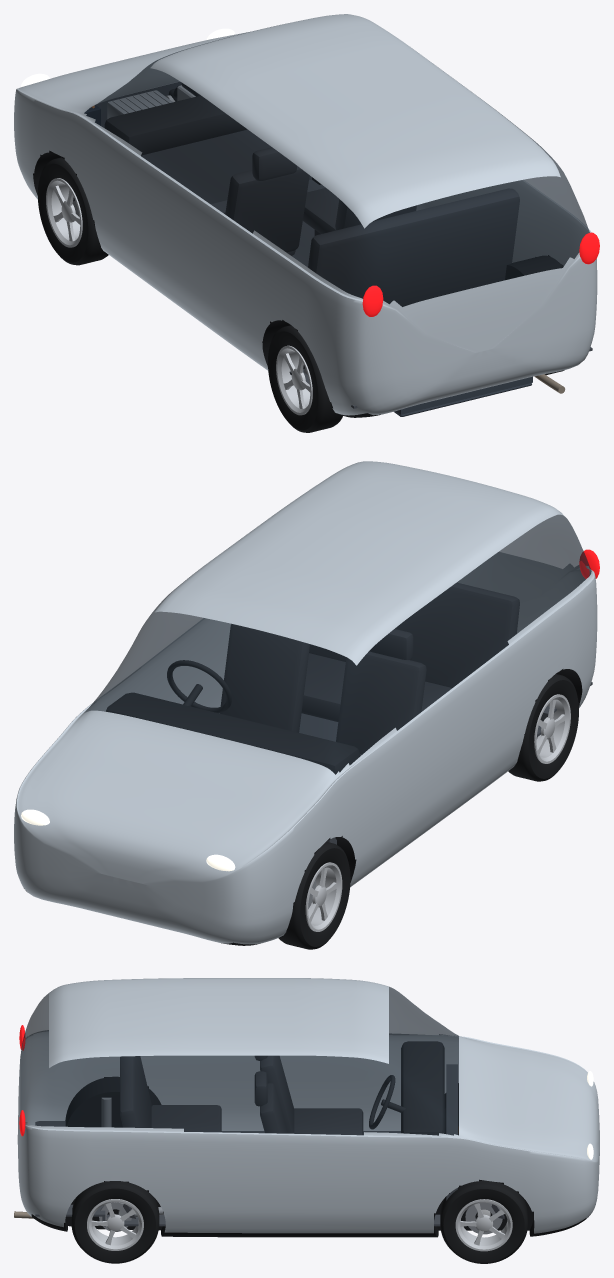
File: ehev.glb
3 views of the same model, one above another, from view 1: azimuth 30°, elevation 25°; view 2: azimuth 150°, elevation 25°; view 3: azimuth 270°, elevation 25° (orthographic). The views are drawn at different scales.
Parts seen in each view (by area): view 1: Body_shell, Seats_rear, Seats_front, Cabin_floor, Dash, Tyre_RL, Tyre_FL, Rim_FL, Rim_RL, Body_lamps, IPU_case, PCU; view 2: Body_shell, Seats_front, Seats_rear, Dash, Tyre_FL, Tyre_RL, Rim_FL, Rim_RL, Body_lamps, Cabin_floor; view 3: Body_shell, Dash, Seats_front, Seats_rear, Tyre_RR, Tyre_FR, Rim_FR, Cabin_floor, Rim_RR, Body_lamps, Disc_FR, Rear_axle.
Part boxes in pixels (<box>): Body_shell: <box>14,14,597,417</box>; Seats_rear: <box>308,188,519,306</box>; Seats_front: <box>223,147,416,255</box>; Cabin_floor: <box>141,129,592,408</box>; Dash: <box>104,95,247,155</box>; Tyre_RL: <box>268,325,342,432</box>; Tyre_FL: <box>37,157,108,265</box>; Rim_FL: <box>46,178,82,247</box>; Rim_RL: <box>276,345,312,415</box>; Body_lamps: <box>21,28,599,316</box>; IPU_case: <box>394,376,532,416</box>; PCU: <box>107,90,172,118</box>; Body_shell: <box>14,461,597,945</box>; Seats_front: <box>220,624,426,756</box>; Seats_rear: <box>301,582,519,721</box>; Dash: <box>106,660,359,774</box>; Tyre_FL: <box>278,841,350,949</box>; Tyre_RL: <box>508,674,578,781</box>; Rim_FL: <box>305,862,342,931</box>; Rim_RL: <box>534,694,570,763</box>; Body_lamps: <box>21,549,599,871</box>; Cabin_floor: <box>299,682,592,844</box>; Body_shell: <box>17,978,599,1237</box>; Dash: <box>369,1041,444,1135</box>; Seats_front: <box>254,1055,363,1135</box>; Seats_rear: <box>120,1056,221,1198</box>; Tyre_RR: <box>71,1181,159,1263</box>; Tyre_FR: <box>440,1181,527,1263</box>; Rim_FR: <box>455,1199,512,1251</box>; Cabin_floor: <box>35,1064,457,1226</box>; Rim_RR: <box>87,1199,143,1250</box>; Body_lamps: <box>19,1025,593,1159</box>; Disc_FR: <box>465,1202,502,1234</box>; Rear_axle: <box>101,1097,163,1217</box>.
Bounding box in the file's own units: 1.7 × 1.54 × 4.02.
